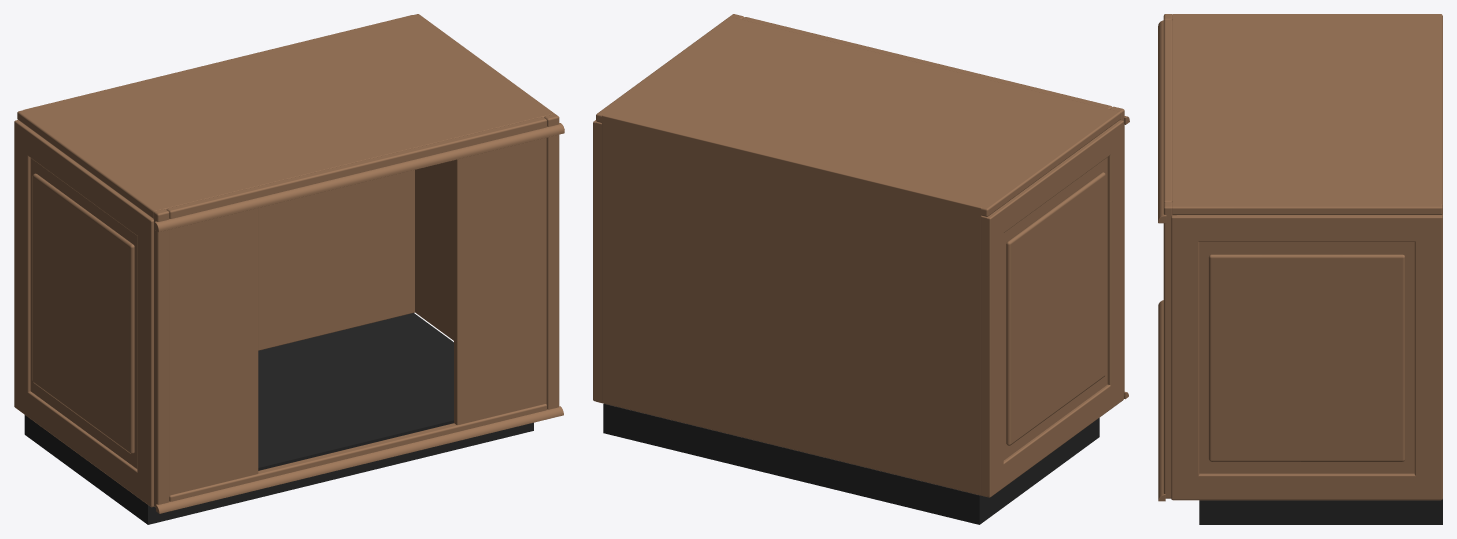
The model's file is cab_98x58.glb.
The picture shows the model from 3 angles, left to right: view 1: azimuth 30°, elevation 25°; view 2: azimuth 150°, elevation 25°; view 3: azimuth 270°, elevation 25°; orthographic projection. The views are drawn at different scales.
Visible parts, largest first — view 1: Top, Plinth, FaceFill.001, FaceFill, Back, SidePanel, SideCore.001, FaceTop, SideStile, FaceStile, SideStile.001, Cornice (+6 smaller); view 2: Back, Top, SidePanel, Plinth, SideCore, SideStile.001, SideStile, SideRail.001, SideRail, SideCore.001, FaceTop, SideStile.003; view 3: Top, SidePanel.001, SideCore.001, SideStile.002, SideStile.003, SideRail.002, SideRail.003, Plinth, FaceStile.001, FaceTop, Back, Cornice (+1 smaller).
Part boxes in pixels (bbox=[...]): Top: bbox=[17, 14, 554, 218]; Plinth: bbox=[24, 313, 533, 524]; FaceFill.001: bbox=[454, 137, 546, 424]; FaceFill: bbox=[169, 208, 258, 495]; Back: bbox=[23, 15, 414, 350]; SidePanel: bbox=[32, 173, 134, 453]; SideCore.001: bbox=[415, 160, 453, 340]; FaceTop: bbox=[166, 117, 546, 218]; SideStile: bbox=[137, 210, 154, 507]; FaceStile: bbox=[153, 209, 169, 507]; SideStile.001: bbox=[14, 120, 30, 415]; Cornice: bbox=[154, 123, 564, 232]; Back: bbox=[601, 114, 981, 495]; Top: bbox=[596, 16, 1120, 216]; SidePanel: bbox=[1006, 172, 1105, 445]; Plinth: bbox=[603, 403, 1099, 524]; SideCore: bbox=[981, 122, 1116, 496]; SideStile.001: bbox=[986, 208, 1003, 497]; SideStile: bbox=[1107, 120, 1123, 408]; SideRail.001: bbox=[995, 126, 1116, 236]; SideRail: bbox=[998, 384, 1116, 491]; SideCore.001: bbox=[596, 122, 601, 402]; FaceTop: bbox=[742, 17, 1112, 108]; SideStile.003: bbox=[593, 120, 596, 401]; Top: bbox=[1172, 14, 1442, 214]; SidePanel.001: bbox=[1208, 254, 1405, 461]; SideCore.001: bbox=[1176, 213, 1442, 473]; SideStile.002: bbox=[1171, 215, 1199, 500]; SideStile.003: bbox=[1414, 215, 1442, 500]; SideRail.002: bbox=[1186, 473, 1427, 500]; SideRail.003: bbox=[1186, 215, 1427, 241]; Plinth: bbox=[1199, 499, 1442, 524]; FaceStile.001: bbox=[1163, 202, 1172, 498]; FaceTop: bbox=[1163, 20, 1172, 203]; Back: bbox=[1436, 16, 1442, 205]; Cornice: bbox=[1158, 20, 1166, 223].
Bounding box in the file's own units: 0.999 × 0.758 × 0.608.
